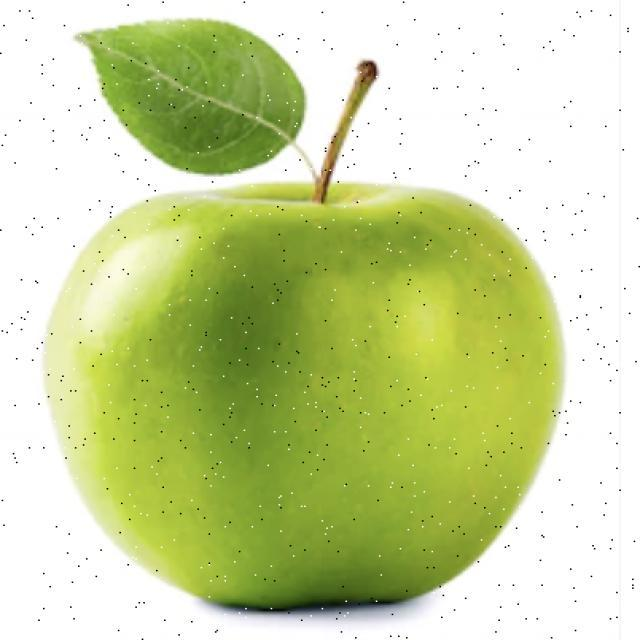Fresh Apple: (72, 177, 543, 625)
